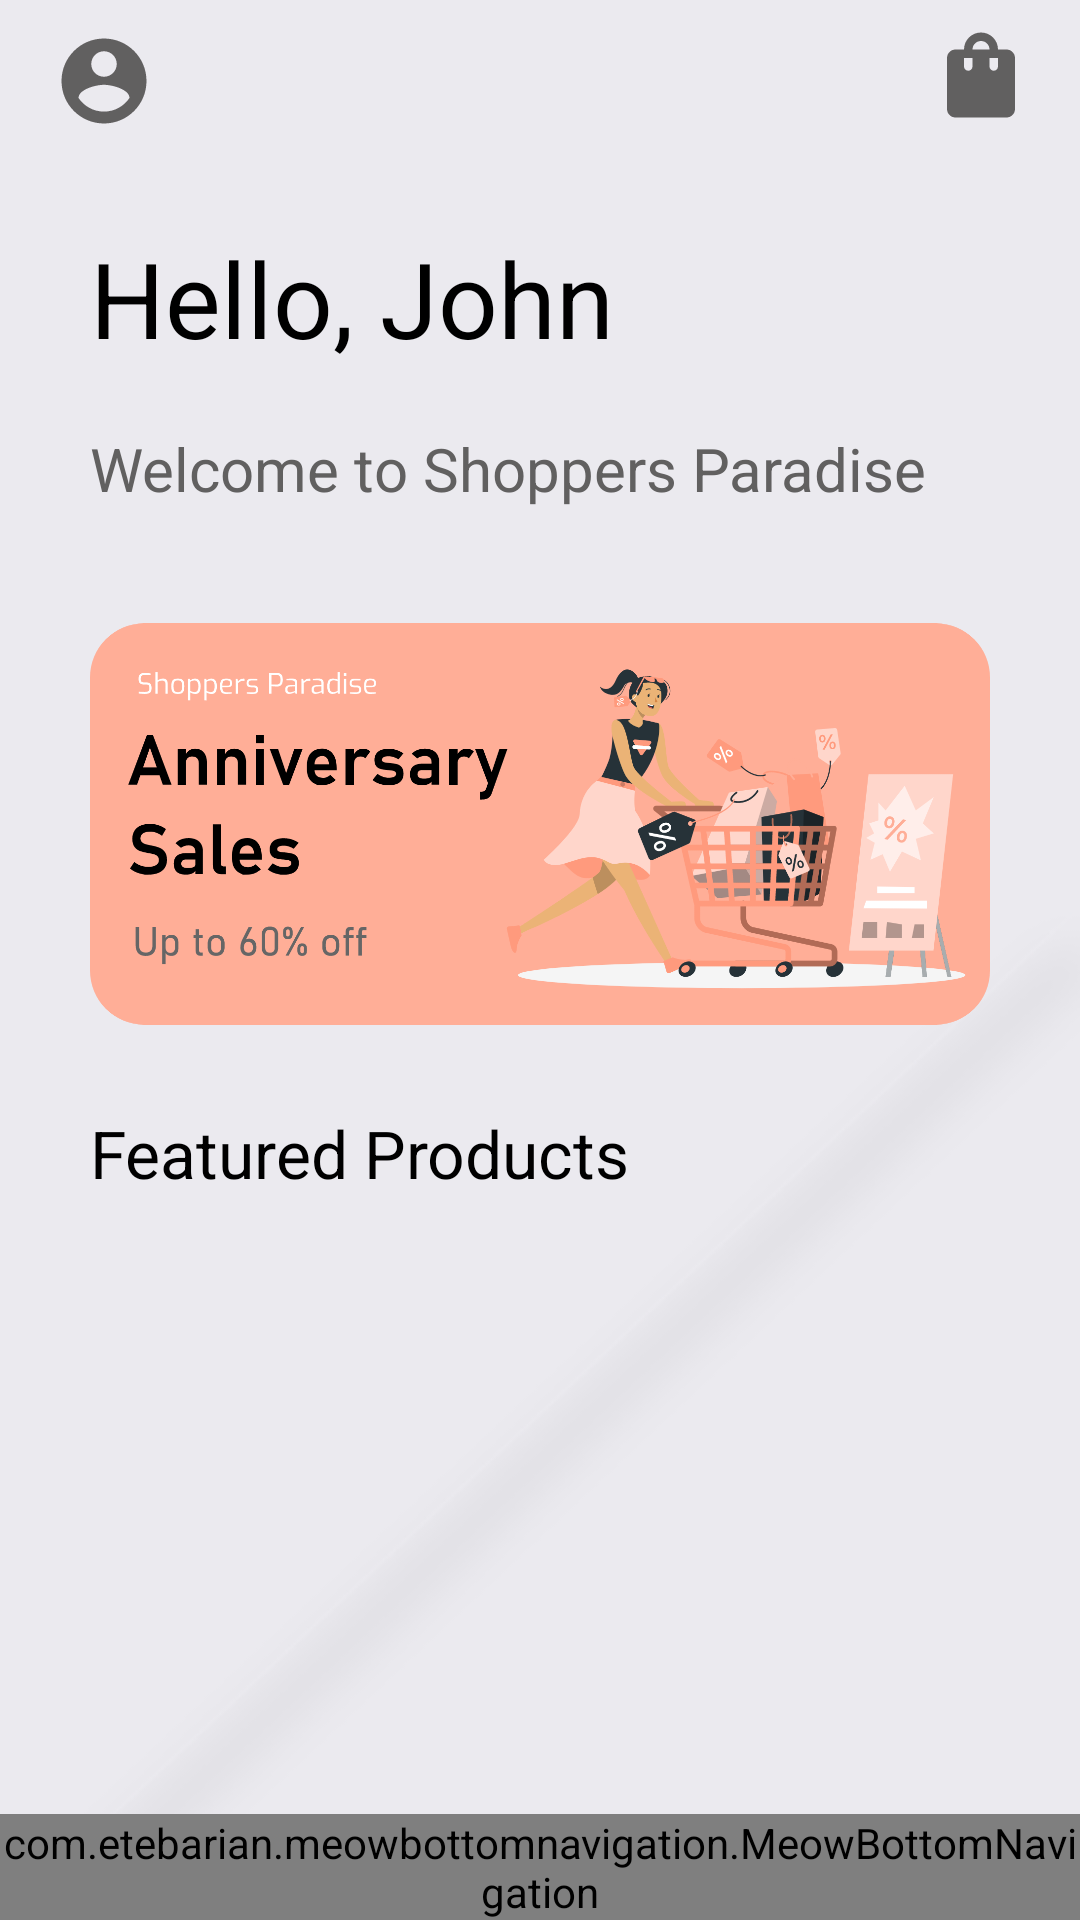

Where to tap for icons on this 1080 × 1920 app screen, as (x,y):
account: (104,81)
shopping bag: (981,75)
